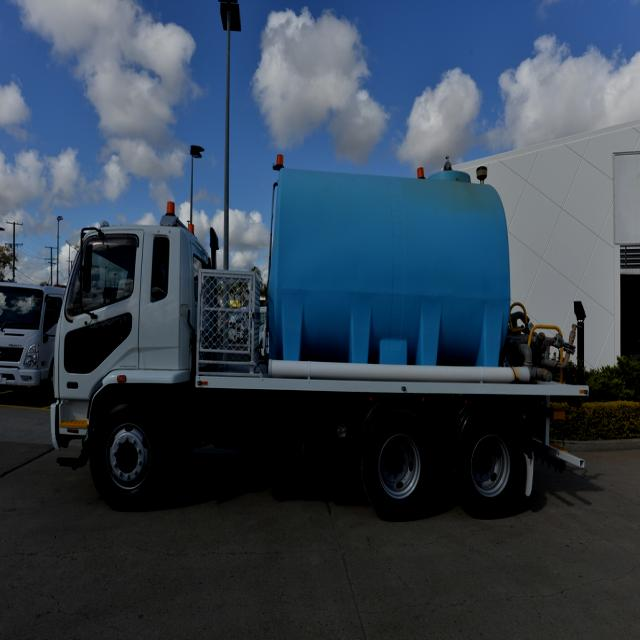truck: (49, 170, 591, 520)
